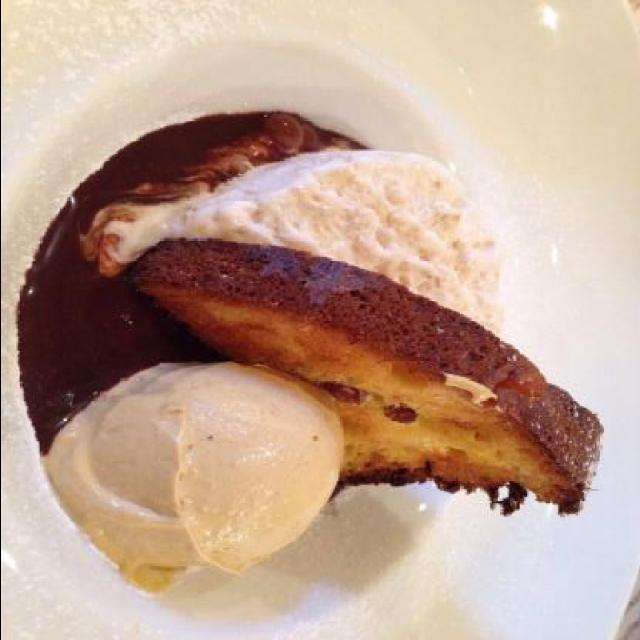Ice cream: (39, 362, 348, 576)
